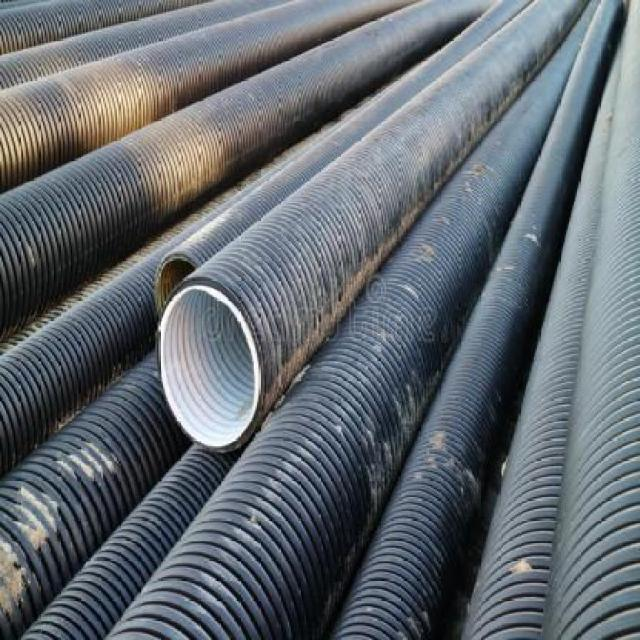pipe: (156, 279, 262, 453)
